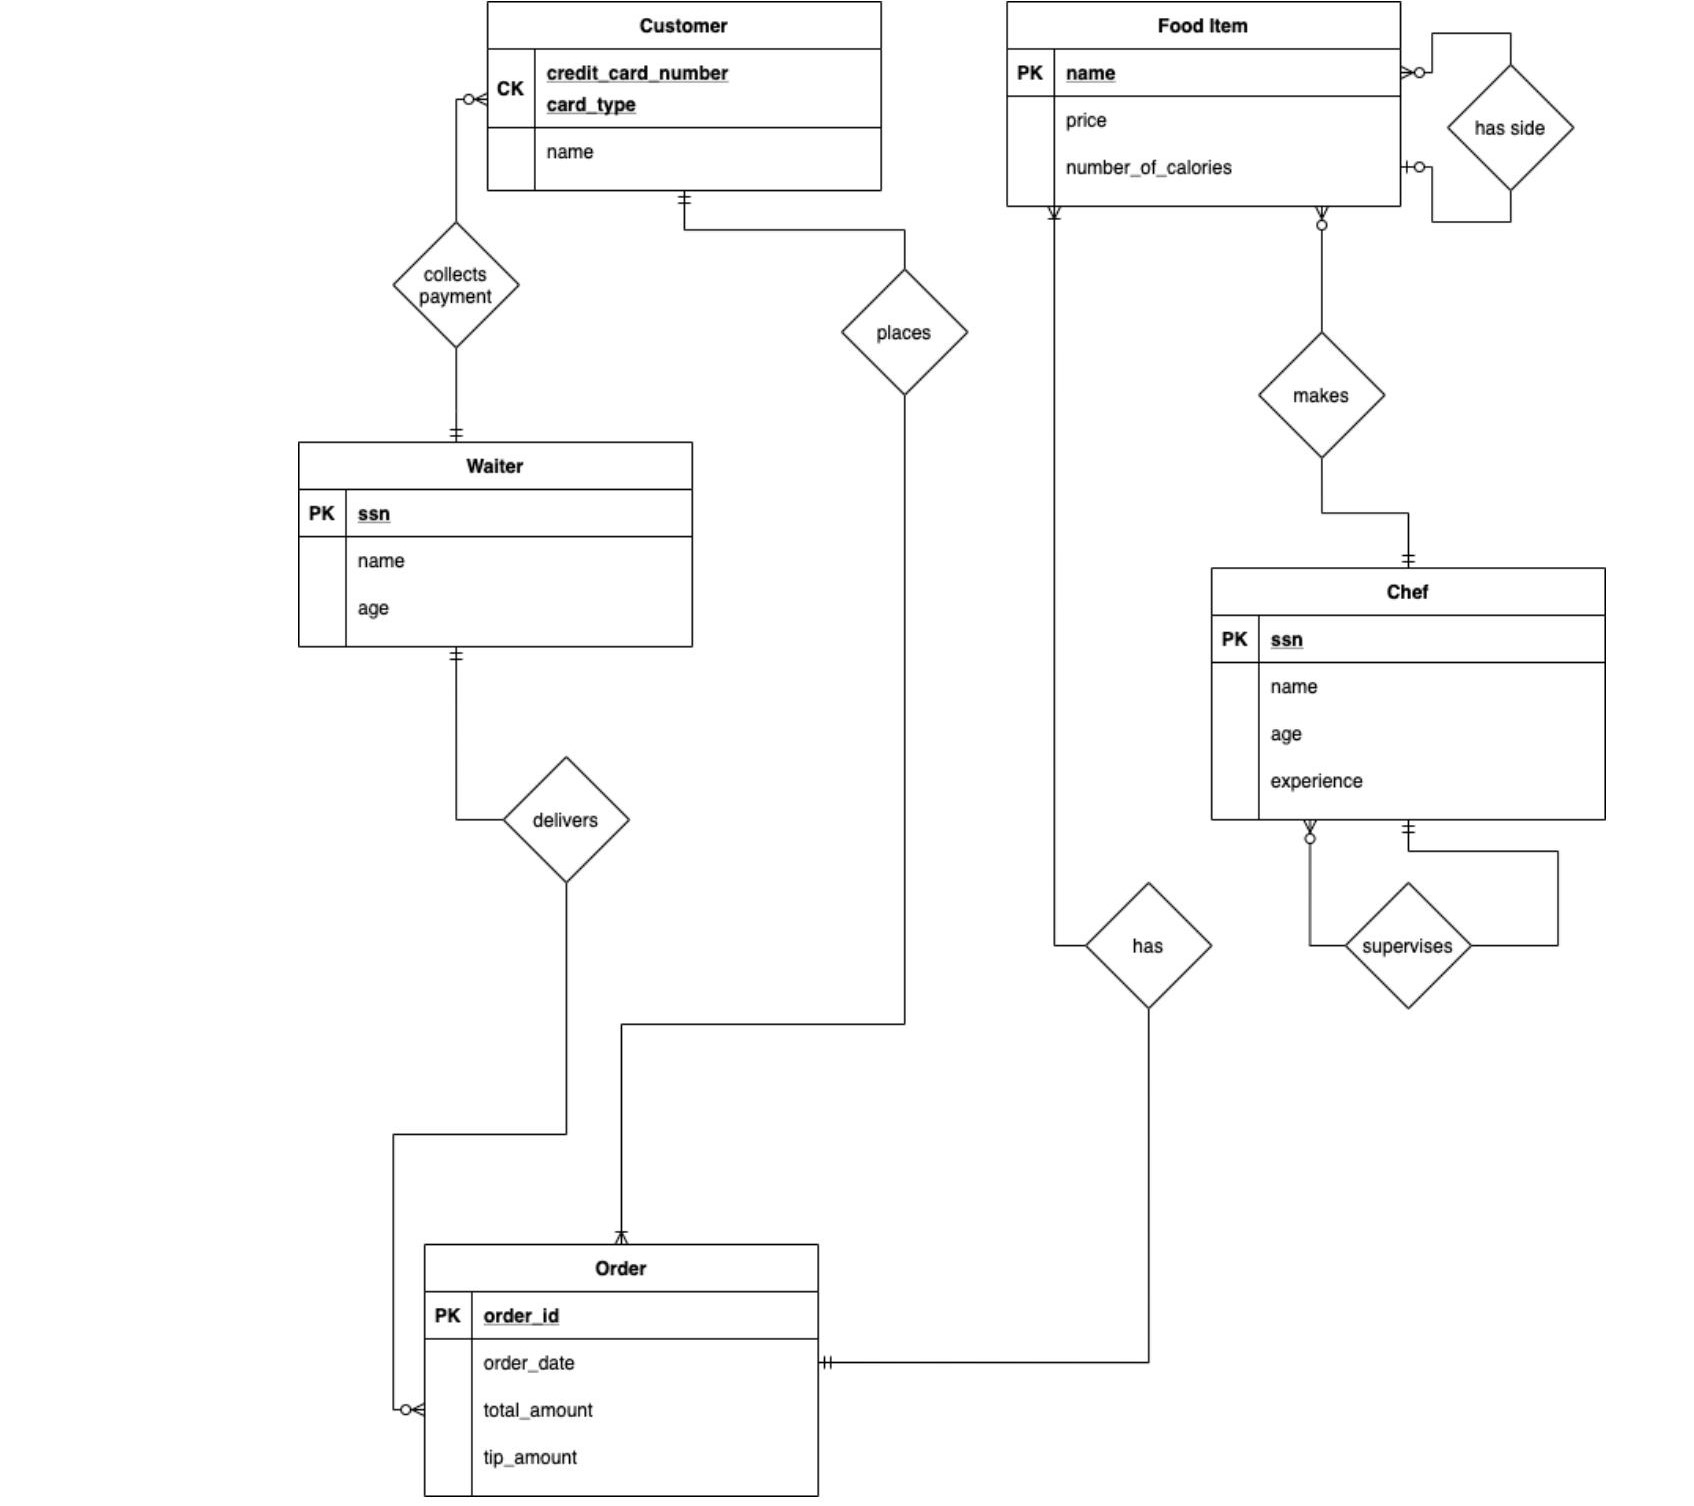Entity: (407, 1223, 838, 1506), (1198, 555, 1615, 831), (284, 430, 699, 657), (997, 3, 1412, 220), (478, 3, 893, 201), (1251, 334, 1392, 462)
Relationship: (1335, 878, 1479, 1015), (502, 749, 635, 895), (1450, 57, 1578, 193), (1086, 874, 1213, 1007), (840, 265, 971, 392), (388, 224, 523, 343)
